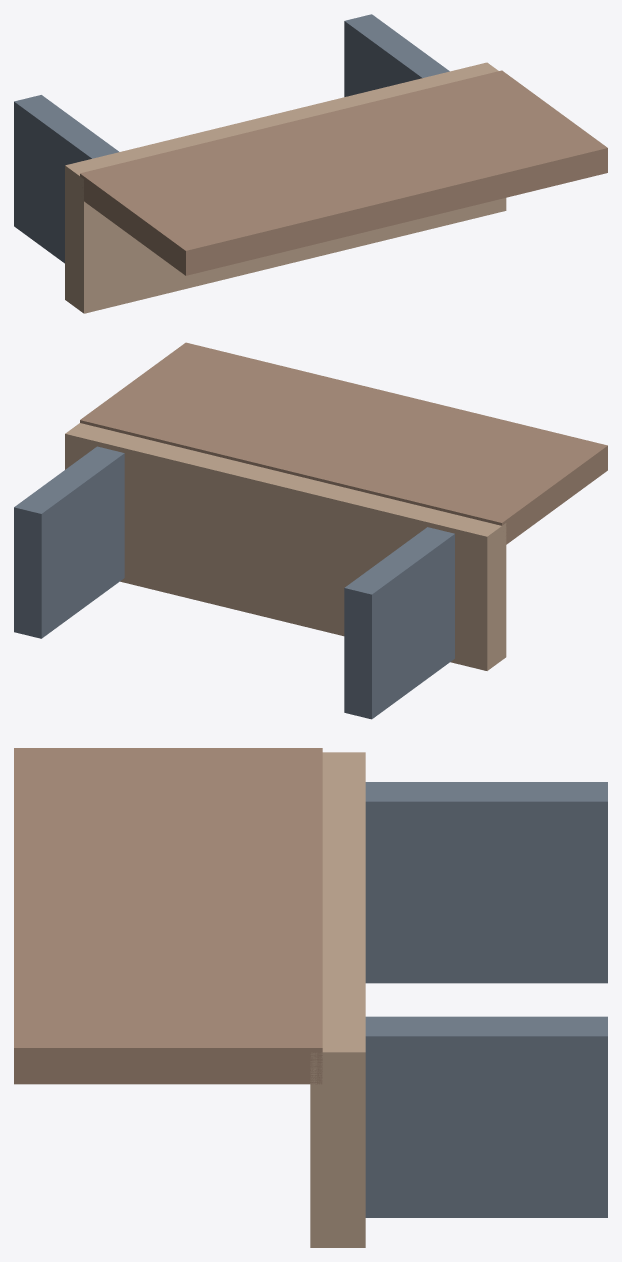
Rendered from bench.glb.
3 views of the same model, one above another, from view 1: azimuth 30°, elevation 25°; view 2: azimuth 150°, elevation 25°; view 3: azimuth 270°, elevation 25° (orthographic). The views are drawn at different scales.
Parts seen in each view (by area): view 1: wood, wood2, metal; view 2: wood, wood2, metal; view 3: wood, metal, wood2.
Boxes of the visible parts, bbox=[...] form: wood: bbox=[80, 70, 607, 275]; wood2: bbox=[65, 62, 506, 313]; metal: bbox=[14, 14, 449, 263]; wood: bbox=[80, 342, 607, 544]; wood2: bbox=[65, 423, 506, 670]; metal: bbox=[14, 446, 454, 719]; wood: bbox=[14, 748, 322, 1084]; metal: bbox=[365, 782, 607, 1217]; wood2: bbox=[310, 752, 365, 1247].
Bounding box in the file's own units: 2.3 × 0.715 × 1.93.
